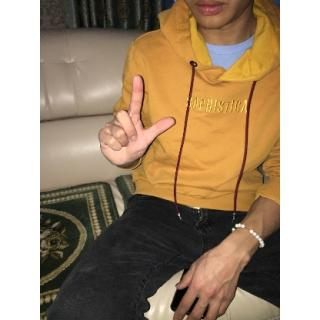LAAM: (96, 73, 176, 174)
